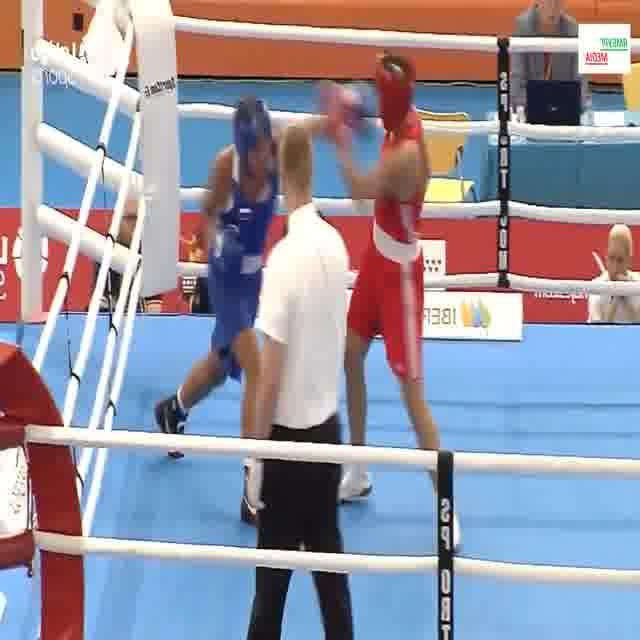blue-player: (151, 80, 381, 528)
red-player: (317, 47, 460, 552)
referee: (237, 123, 355, 640)
